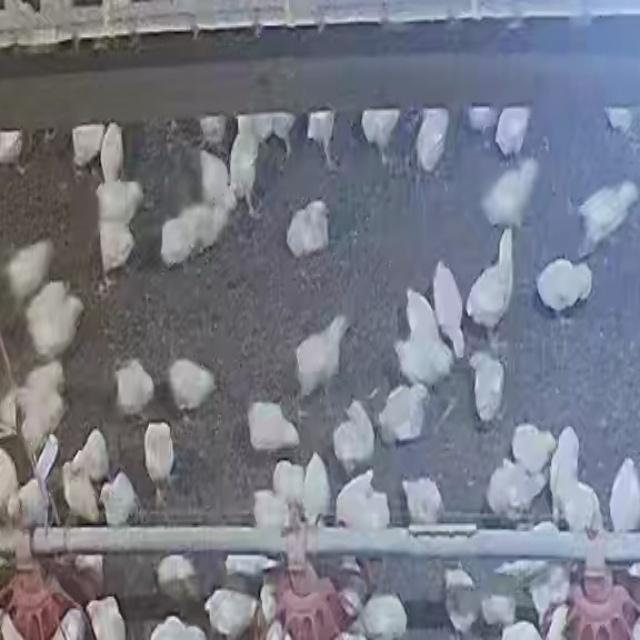chicken: (466, 225, 517, 349), (23, 277, 86, 364), (293, 308, 352, 398), (574, 180, 638, 256), (16, 361, 68, 453), (485, 458, 545, 524), (481, 160, 537, 230), (535, 258, 594, 322), (334, 469, 390, 533), (243, 398, 302, 456), (432, 257, 465, 360), (376, 382, 428, 446), (4, 239, 52, 306), (333, 400, 376, 473), (168, 359, 220, 418), (142, 421, 178, 506), (467, 350, 506, 425), (60, 456, 102, 524), (286, 199, 331, 259), (510, 422, 556, 478), (607, 457, 640, 534), (114, 359, 156, 418), (155, 553, 201, 606), (98, 470, 139, 528), (400, 475, 444, 526), (74, 426, 110, 486), (251, 488, 290, 531)
